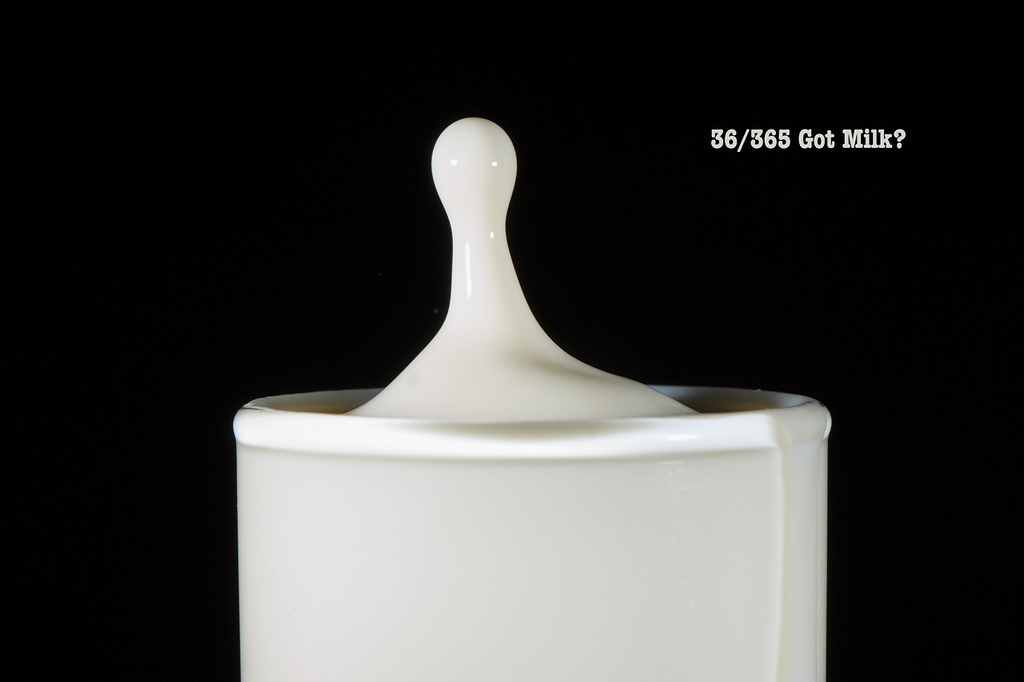glass of milk: (229, 387, 815, 682)
